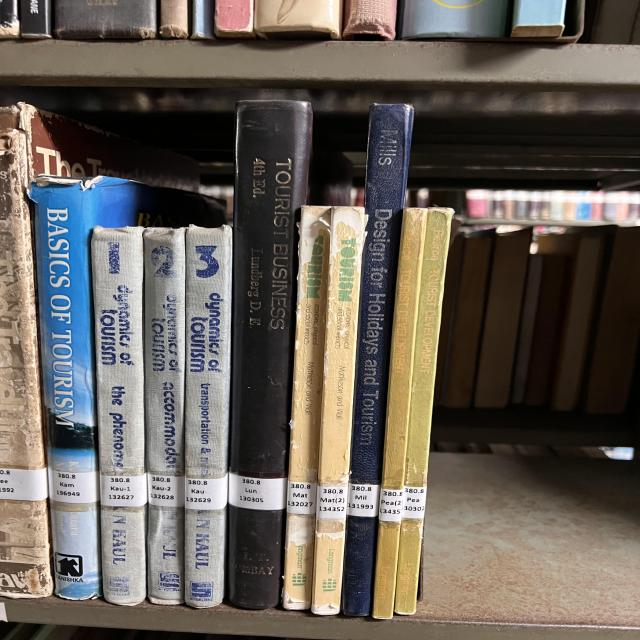Book: (28, 176, 165, 599), (228, 100, 312, 609), (342, 105, 413, 616), (373, 209, 453, 619), (395, 209, 453, 615), (312, 208, 367, 615), (92, 226, 147, 605), (282, 206, 330, 610), (185, 226, 232, 609), (143, 228, 185, 605)
Label: (228, 472, 287, 510), (48, 469, 98, 504), (100, 474, 147, 508), (185, 475, 228, 510), (148, 474, 185, 508), (347, 484, 380, 518), (317, 486, 348, 519), (287, 481, 317, 515), (378, 489, 403, 522), (402, 486, 427, 519)
